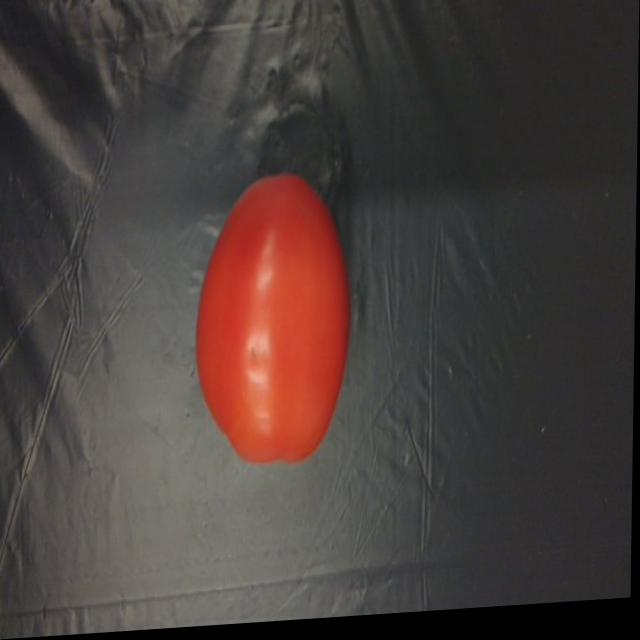kirmizi: (185, 143, 351, 498)
